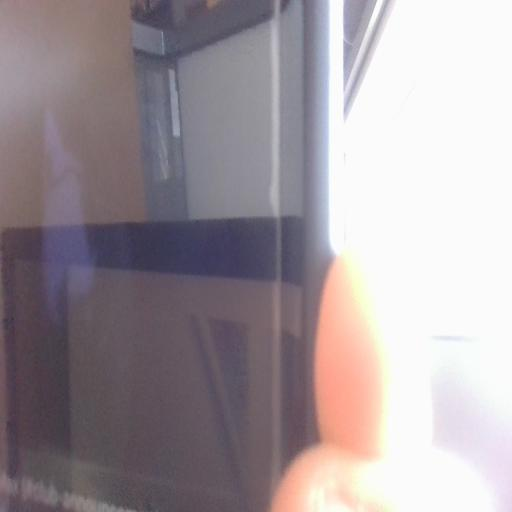phone: (0, 2, 334, 512)
